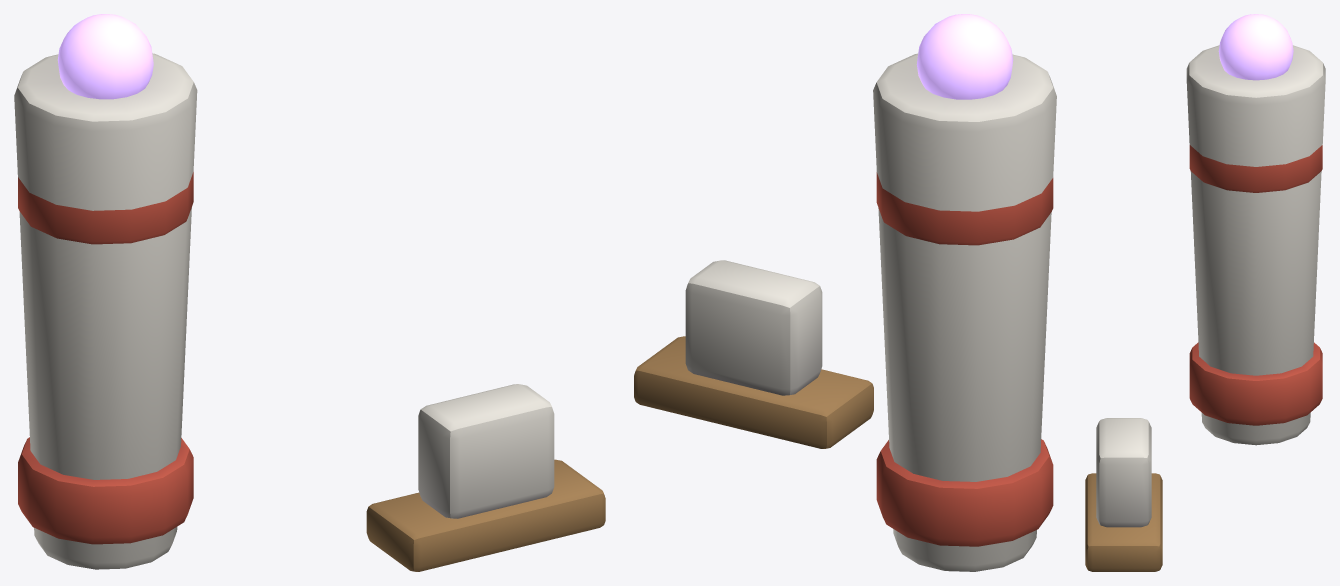
3 views of the same model, side by side, from view 1: azimuth 30°, elevation 25°; view 2: azimuth 150°, elevation 25°; view 3: azimuth 270°, elevation 25° (orthographic). The views are drawn at different scales.
Visible parts, largest first — view 1: landmark_e07b293b; view 2: landmark_e07b293b; view 3: landmark_e07b293b.
Part boxes in pixels (bbox=[...]): landmark_e07b293b: bbox=[14, 14, 605, 571]; landmark_e07b293b: bbox=[634, 14, 1056, 571]; landmark_e07b293b: bbox=[1085, 14, 1325, 571].
Bounding box in the file's own units: 3.85 × 4.09 × 2.18.
